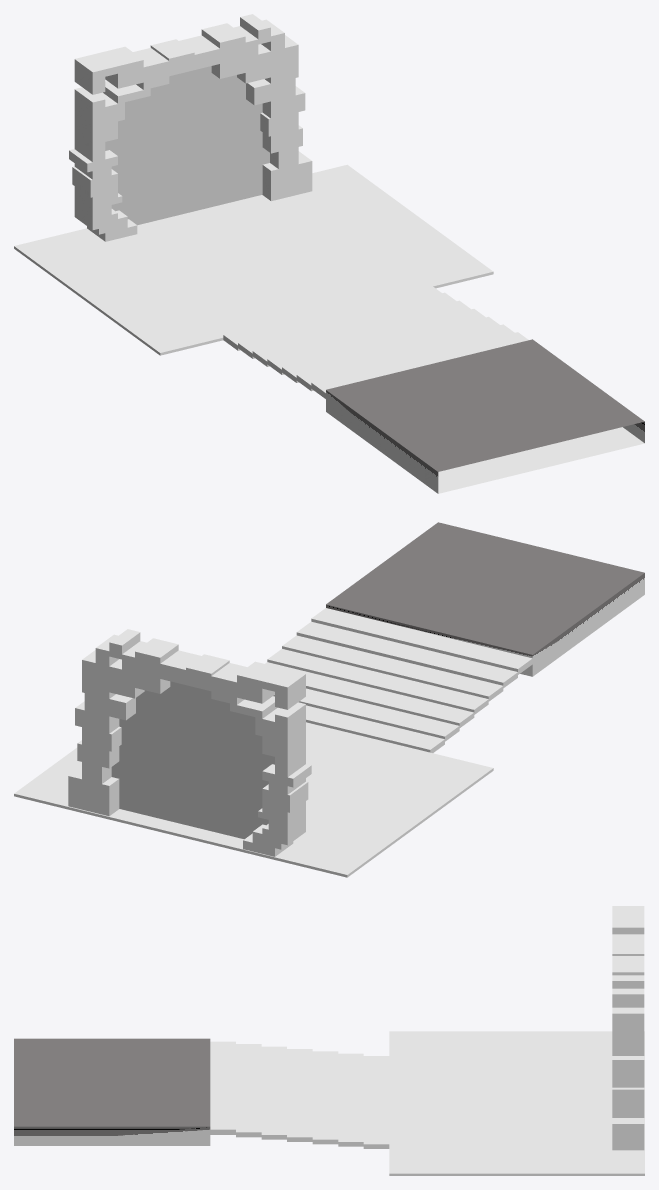
The model's file is Arrival Zone.fbx.
3 renders of one model, top to bottom at view 1: azimuth 30°, elevation 25°; view 2: azimuth 150°, elevation 25°; view 3: azimuth 270°, elevation 25°, orthographic. The views are drawn at different scales.
Parts seen in each view (by area): view 1: Hub Entry, ArkV2.2, Veil.001; view 2: Hub Entry, ArkV2.2, Veil.001; view 3: Hub Entry, ArkV2.2.
Part boxes in pixels (bbox=[...]): Hub Entry: bbox=[14, 164, 644, 493]; ArkV2.2: bbox=[69, 14, 312, 241]; Veil.001: bbox=[105, 66, 269, 225]; Hub Entry: bbox=[14, 522, 644, 877]; ArkV2.2: bbox=[68, 629, 311, 856]; Veil.001: bbox=[111, 681, 274, 839]; Hub Entry: bbox=[14, 1031, 644, 1175]; ArkV2.2: bbox=[612, 906, 644, 1150].
Size of the model in its own units: 2634 by 1334 by 4937.
